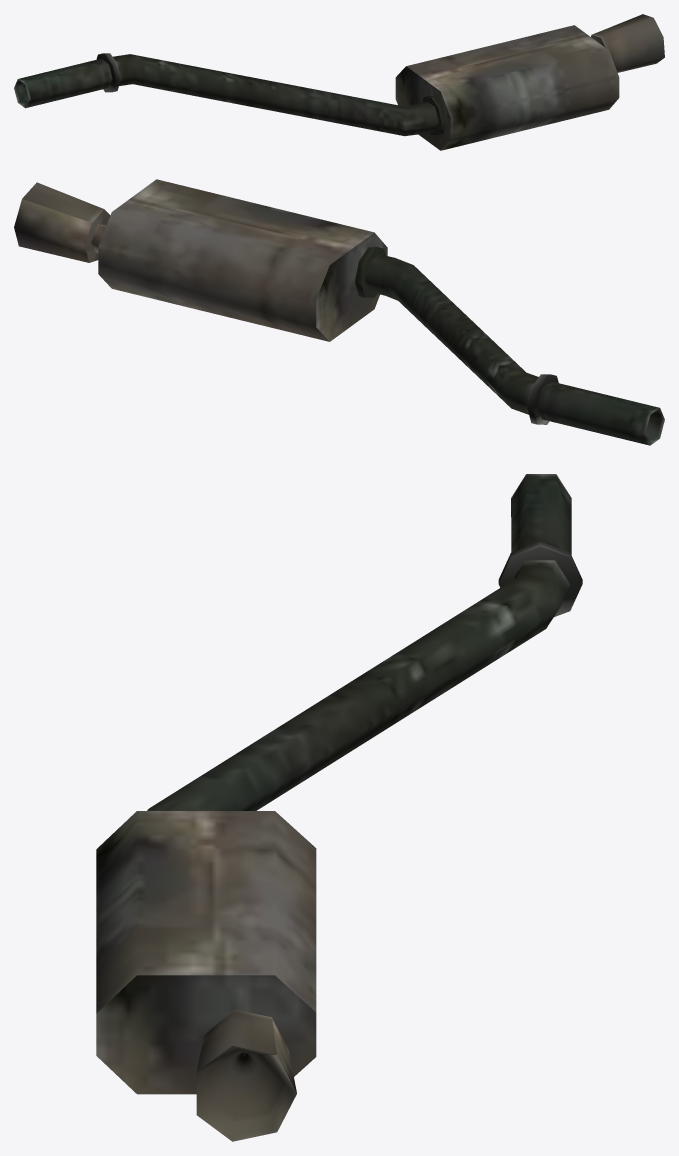
Rendered from carparts_muffler01a.glb.
The picture shows the model from 3 angles, top to bottom: view 1: azimuth 30°, elevation 25°; view 2: azimuth 150°, elevation 25°; view 3: azimuth 270°, elevation 25°; orthographic projection. The views are drawn at different scales.
Parts seen in each view (by area): view 1: 0_car001_hatchback_02; view 2: 0_car001_hatchback_02; view 3: 0_car001_hatchback_02.
Part boxes in pixels (x1,y1,x2,y2): 0_car001_hatchback_02: (14, 14, 664, 150); 0_car001_hatchback_02: (14, 179, 664, 445); 0_car001_hatchback_02: (96, 474, 582, 1141).
Size of the model in its own units: 1.44 by 0.1962 by 0.542.
1 material, 1 textured.
